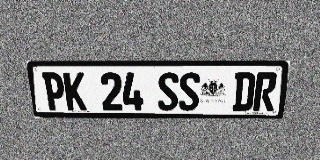2: (100, 72, 123, 111)
4: (122, 72, 143, 111)
D: (232, 72, 256, 111)
K: (63, 72, 87, 110)
P: (42, 72, 66, 110)
R: (253, 72, 278, 111)
S: (158, 72, 179, 111), (179, 72, 200, 111)
